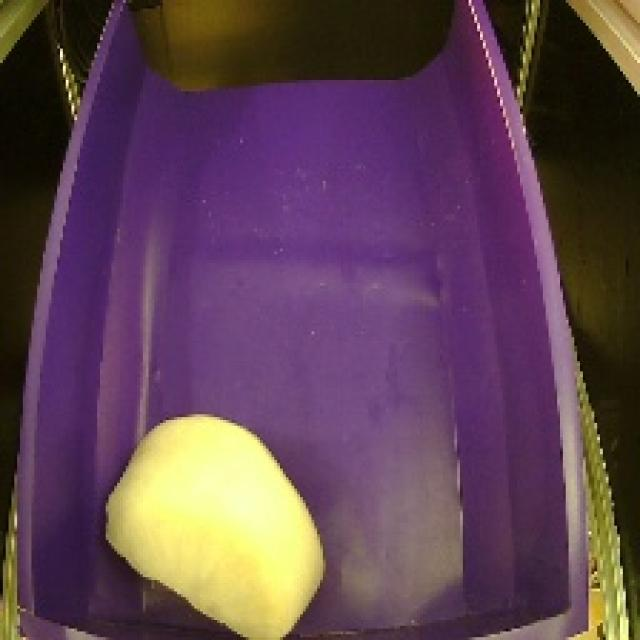white_radish: (105, 397, 337, 640)
